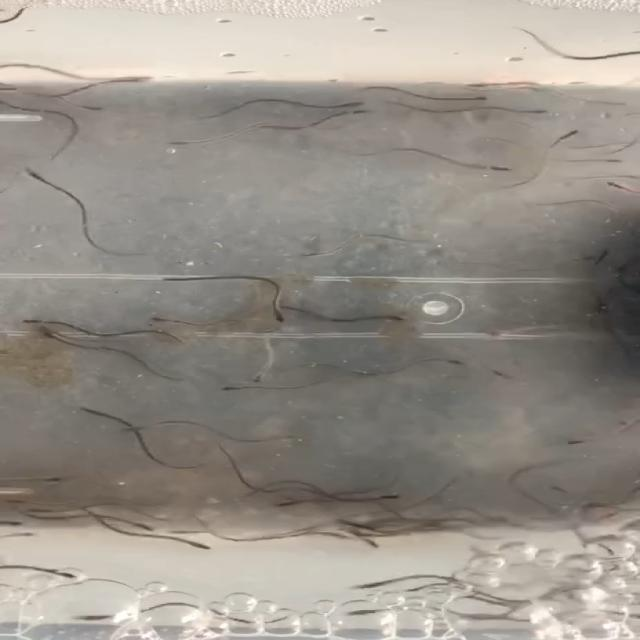active_glass_eel: (36, 563, 86, 582), (346, 575, 396, 593), (106, 73, 162, 89), (13, 160, 46, 186), (356, 530, 391, 552), (69, 609, 123, 623), (67, 403, 113, 419), (0, 528, 43, 543), (594, 150, 640, 164), (121, 417, 161, 433), (126, 518, 163, 535), (141, 313, 182, 328), (266, 306, 298, 325), (240, 367, 270, 387), (42, 470, 79, 486), (595, 178, 640, 191), (485, 368, 517, 386), (172, 537, 216, 550), (308, 527, 352, 540), (74, 100, 108, 116), (536, 480, 571, 495), (462, 81, 509, 92), (344, 607, 391, 618), (554, 128, 586, 144), (326, 100, 377, 110), (473, 165, 515, 177), (375, 489, 405, 505), (432, 357, 466, 371), (563, 434, 602, 446), (590, 247, 614, 266), (3, 496, 40, 508), (374, 315, 416, 325), (21, 506, 56, 518), (342, 109, 380, 120), (164, 137, 196, 150), (276, 498, 316, 508), (298, 248, 334, 259), (15, 314, 50, 325), (0, 514, 27, 528), (38, 327, 64, 341), (214, 385, 250, 395), (462, 91, 489, 103)
